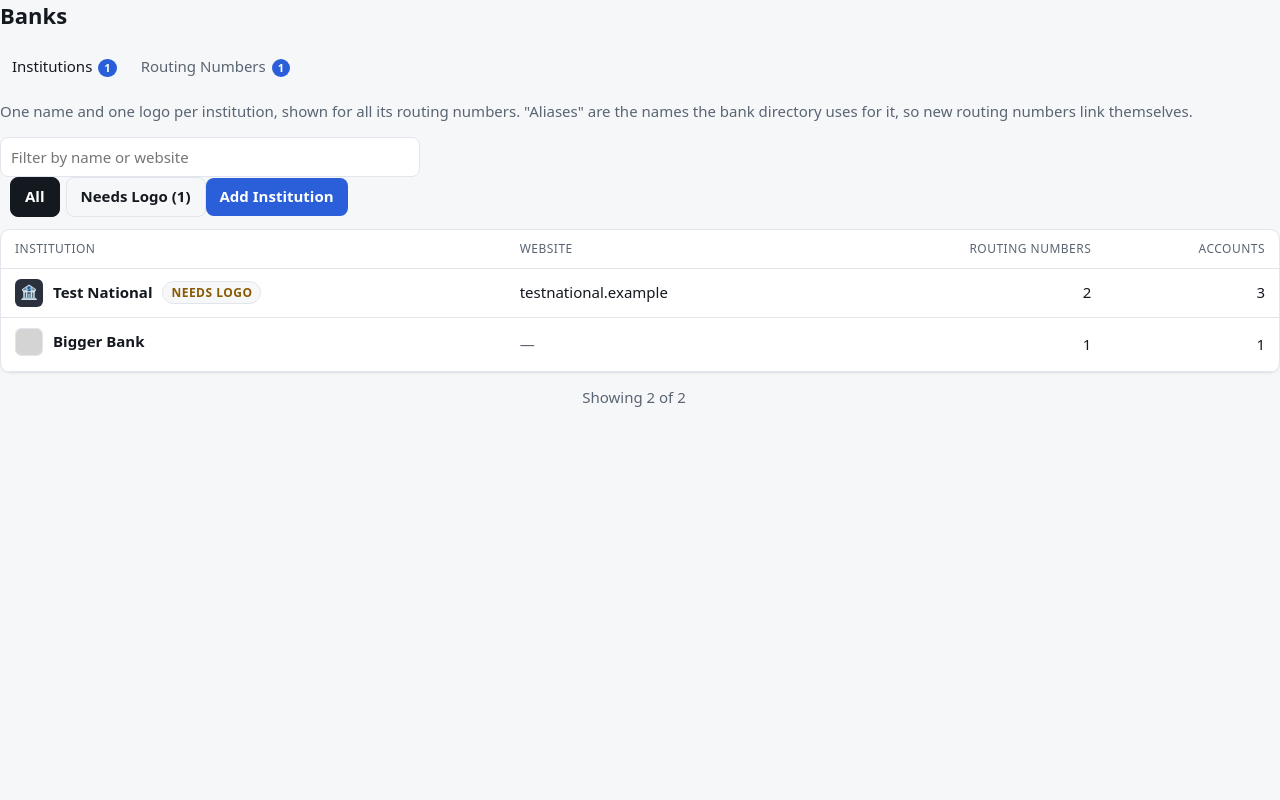
it: Banks: institutions › a name already used by another institution is explained
Click the button "Add Institution" at point(277, 197), box [206,178,348,216]
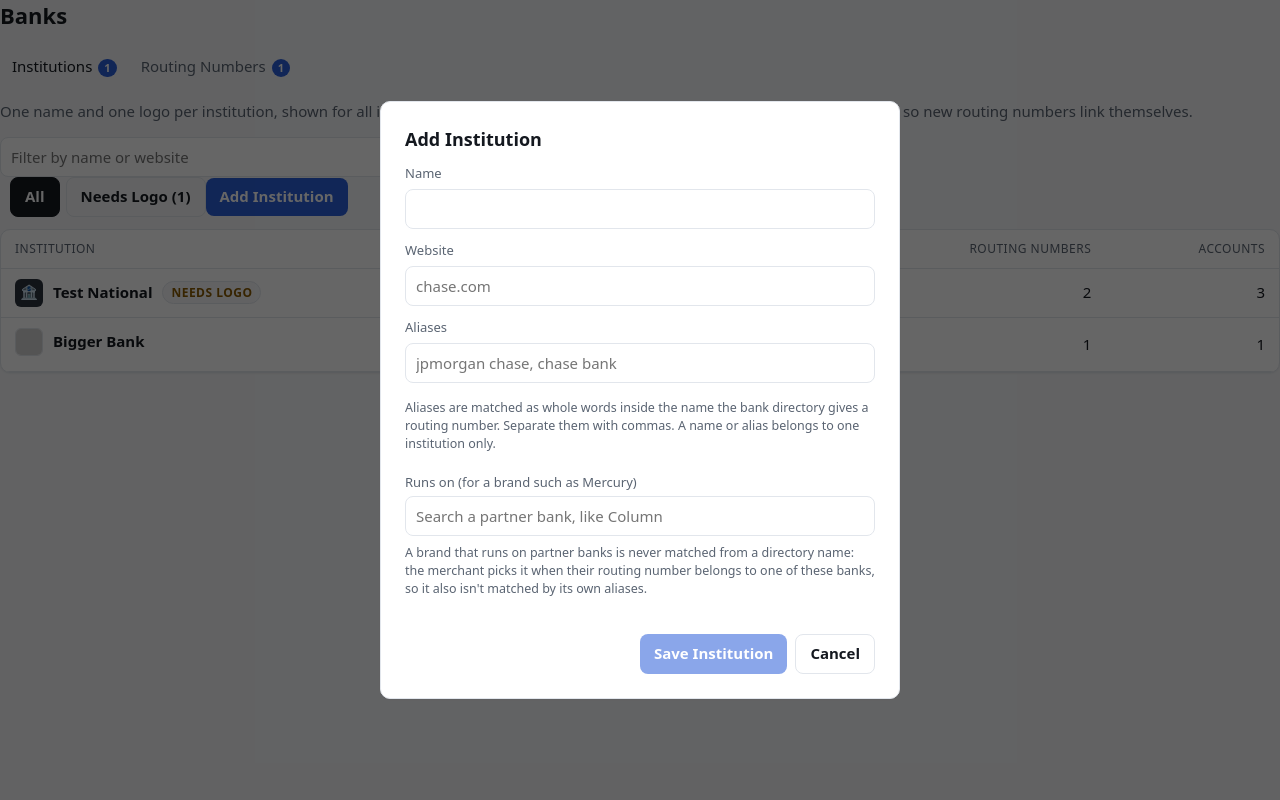
Type "Column" into the field labelled "Name" at point(640, 209), box [405,189,875,229]
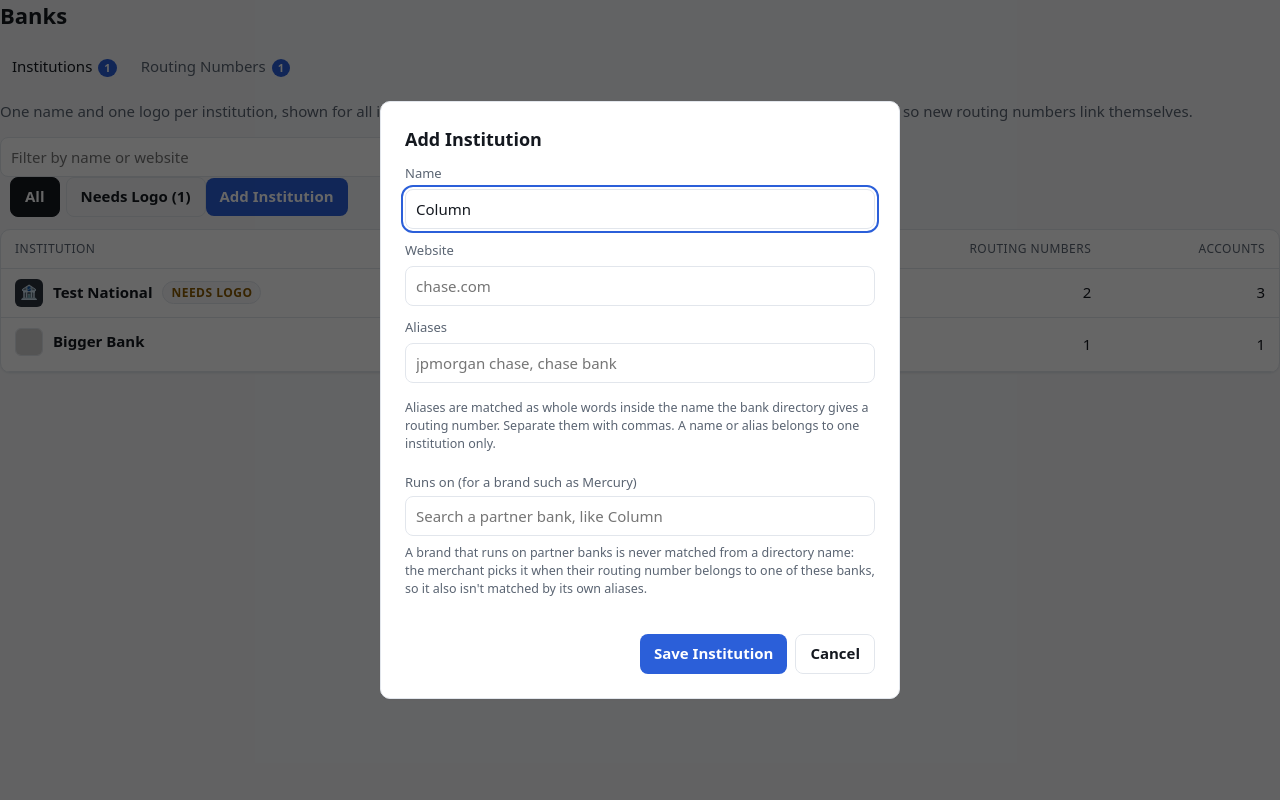
Click the button "Save Institution" at point(714, 654), box [640,634,787,674]
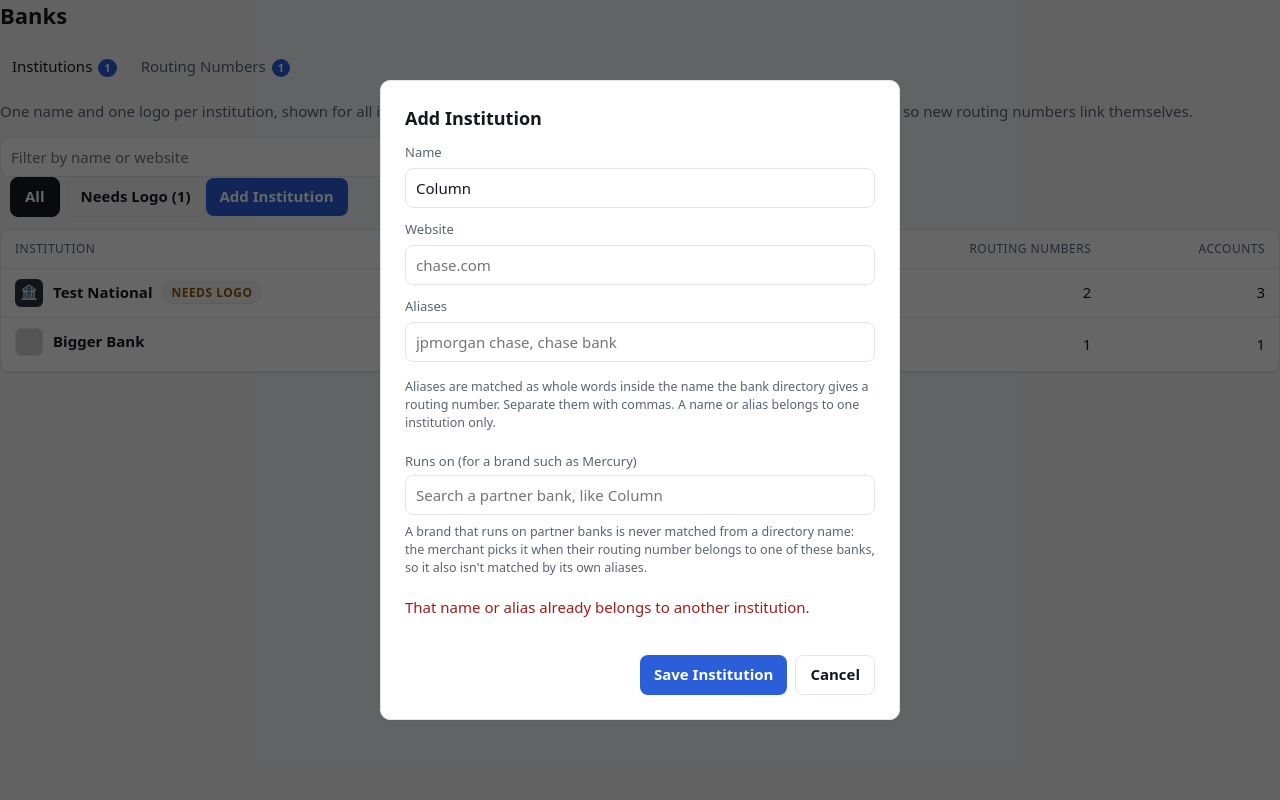
Expected: the text "That name or alias already belongs to another institution." is shown, [405,597,875,619]
